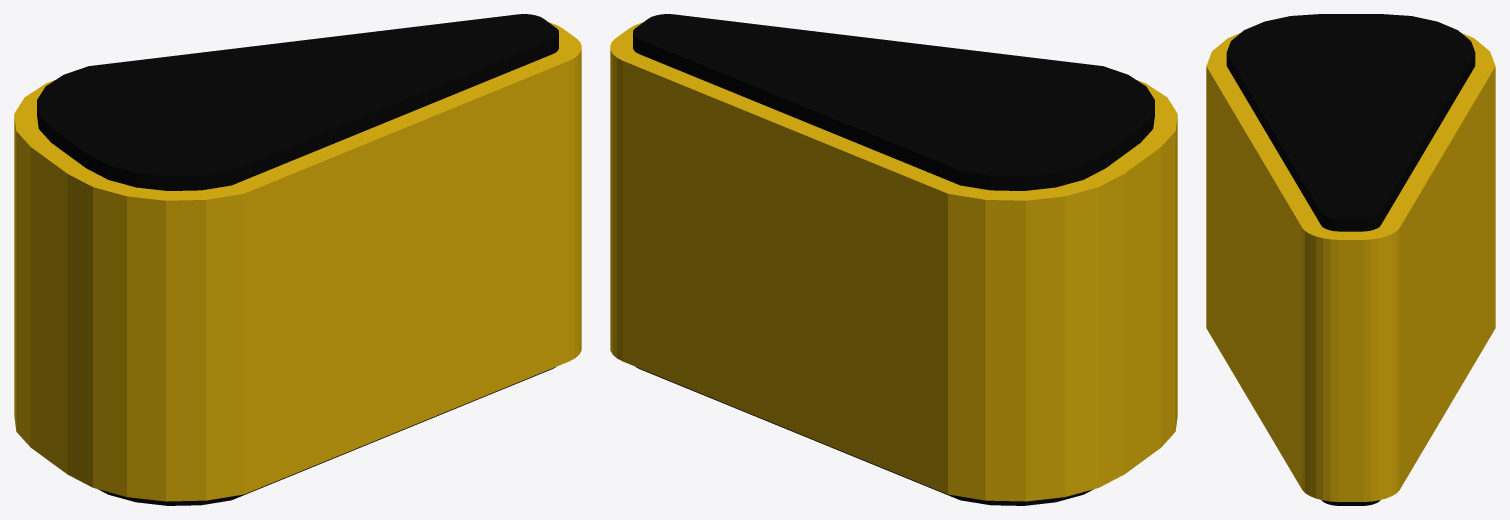
The model's file is paddle.fbx.
3 views of the same model, side by side, from view 1: azimuth 30°, elevation 25°; view 2: azimuth 150°, elevation 25°; view 3: azimuth 270°, elevation 25° (orthographic). The views are drawn at different scales.
Visible parts, largest first — view 1: paddle; view 2: paddle; view 3: paddle.
Part boxes in pixels (<box>): paddle: <box>14,14,581,505</box>; paddle: <box>610,14,1177,505</box>; paddle: <box>1206,14,1495,505</box>.
Bounding box in the file's own units: 3.62 × 2.19 × 2.
